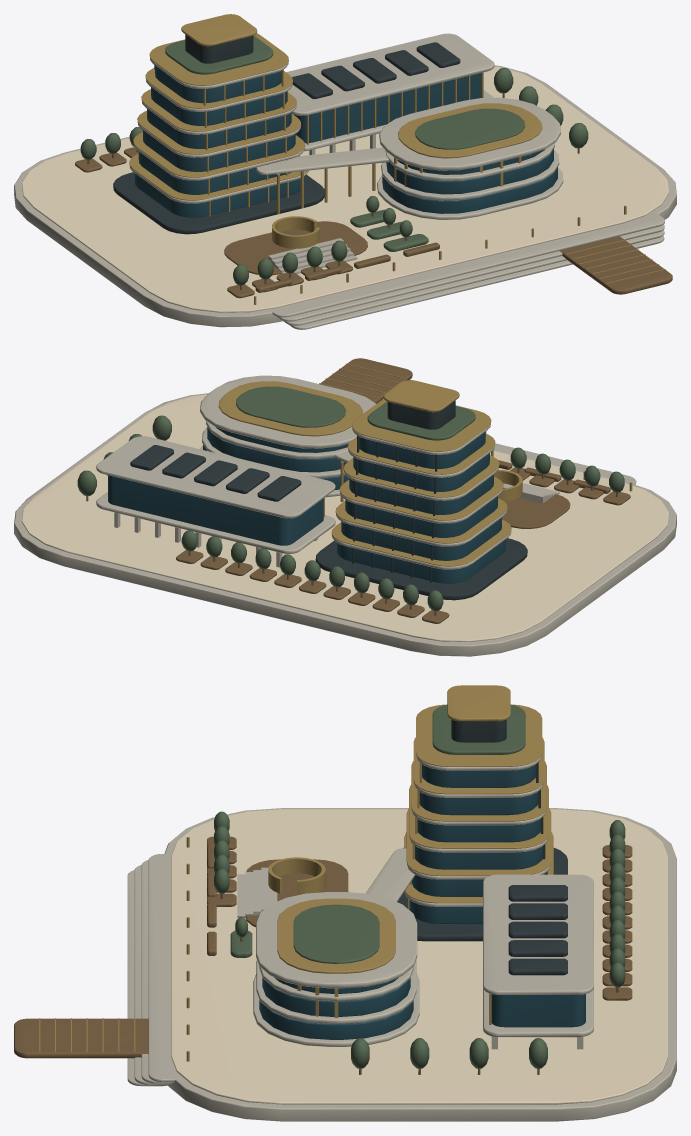
File: standard.glb
3 views of the same model, one above another, from view 1: azimuth 30°, elevation 25°; view 2: azimuth 150°, elevation 25°; view 3: azimuth 270°, elevation 25° (orthographic). The views are drawn at different scales.
Visible parts, largest first — view 1: pauli-architecture-chalk, pauli-architecture-limestone, pauli-architecture-recessed-glass, pauli-architecture-brushed-brass, pauli-architecture-garden, pauli-architecture-timber, pauli-architecture-graphite; view 2: pauli-architecture-chalk, pauli-architecture-limestone, pauli-architecture-recessed-glass, pauli-architecture-brushed-brass, pauli-architecture-garden, pauli-architecture-graphite, pauli-architecture-timber; view 3: pauli-architecture-chalk, pauli-architecture-limestone, pauli-architecture-recessed-glass, pauli-architecture-brushed-brass, pauli-architecture-garden, pauli-architecture-timber, pauli-architecture-graphite.
Boxes of the visible parts, x1,y1,x2,y2 form: pauli-architecture-chalk: (21, 66, 669, 312); pauli-architecture-limestone: (14, 33, 676, 329); pauli-architecture-recessed-glass: (134, 65, 557, 217); pauli-architecture-brushed-brass: (129, 14, 665, 304); pauli-architecture-garden: (80, 35, 588, 285); pauli-architecture-timber: (75, 93, 672, 298); pauli-architecture-graphite: (113, 34, 460, 234); pauli-architecture-chalk: (21, 394, 669, 642); pauli-architecture-limestone: (14, 375, 676, 656); pauli-architecture-recessed-glass: (108, 427, 505, 583); pauli-architecture-brushed-brass: (218, 363, 632, 566); pauli-architecture-garden: (77, 386, 624, 611); pauli-architecture-graphite: (130, 400, 527, 600); pauli-architecture-timber: (86, 358, 630, 623); pauli-architecture-chalk: (171, 809, 667, 1104); pauli-architecture-limestone: (127, 754, 676, 1121); pauli-architecture-recessed-glass: (259, 764, 585, 1039); pauli-architecture-brushed-brass: (39, 685, 553, 1061); pauli-architecture-garden: (214, 704, 625, 1068); pauli-architecture-timber: (14, 836, 632, 1074); pauli-architecture-graphite: (397, 719, 567, 975).
Size of the model in its own units: 36 by 11.78 by 33.5.
